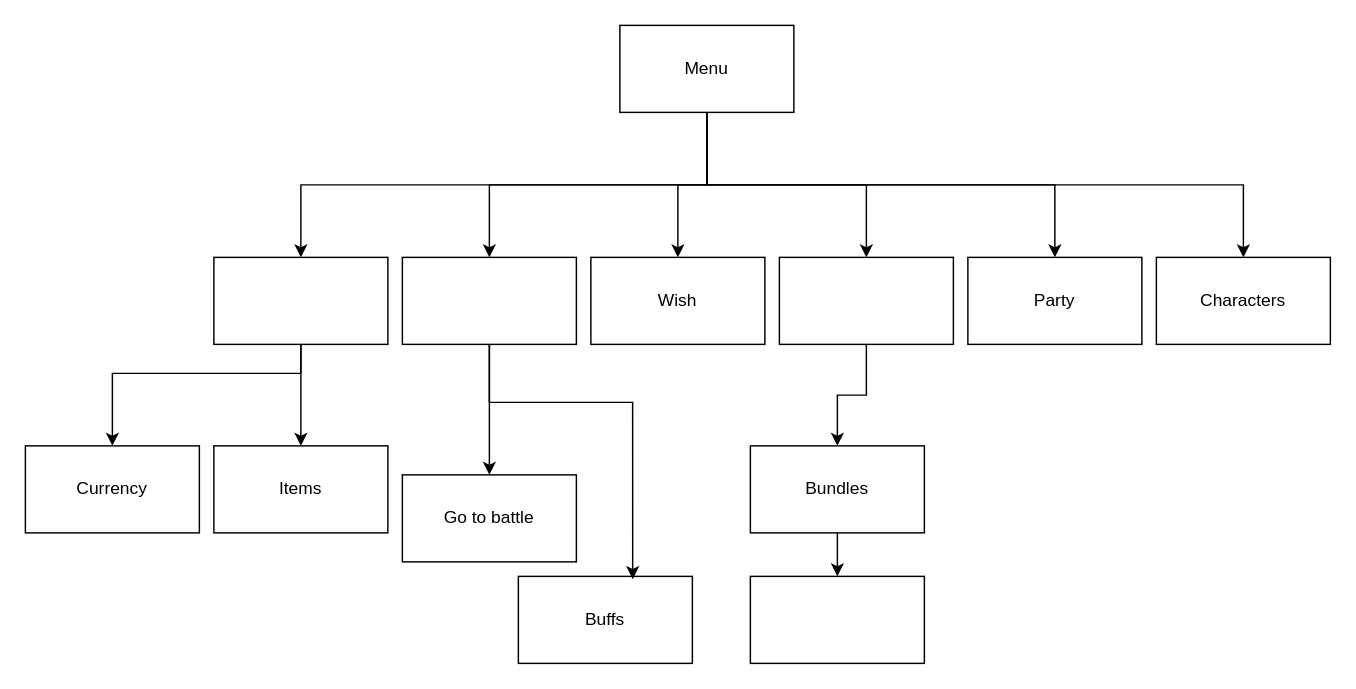
Image size: 1356x689. Some labels were removed from this diagram. The shapes that lost their labels are listed below. From the top down, each one's centre as x and y in pixels, then its label:
At pixel 300 300: "Bag".
At pixel 488 300: "Daily".
At pixel 865 300: "Shop".
At pixel 836 619: "Transaction".
